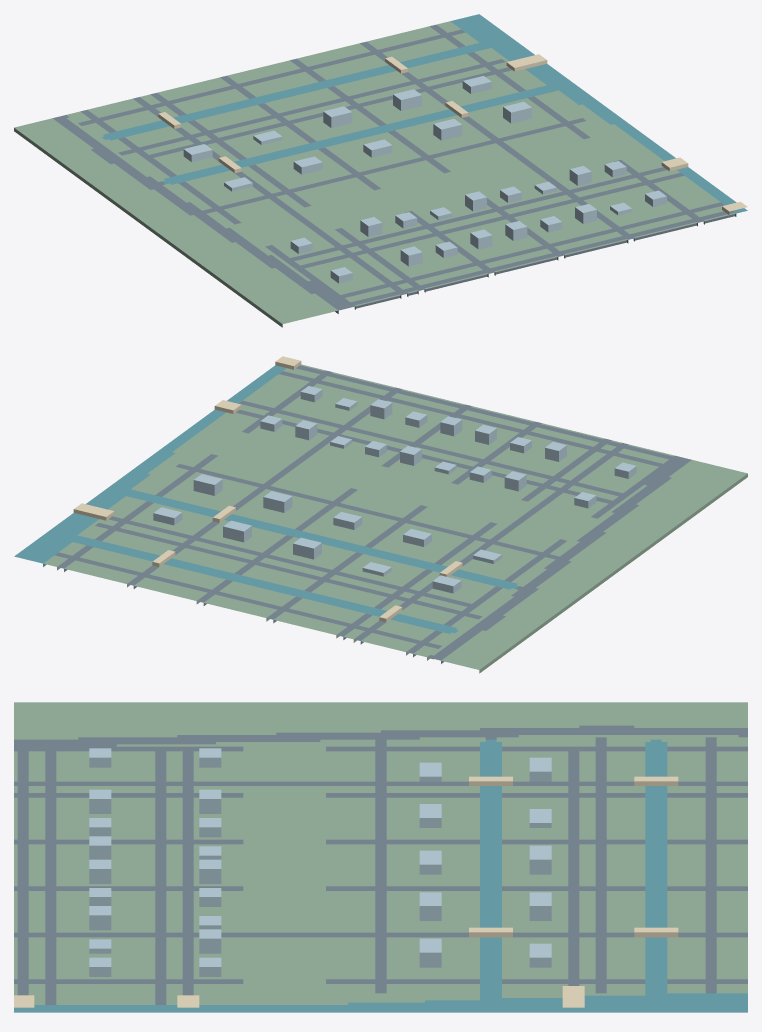
Rendered from sector-w.glb.
The picture shows the model from 3 angles, top to bottom: view 1: azimuth 30°, elevation 25°; view 2: azimuth 150°, elevation 25°; view 3: azimuth 270°, elevation 25°; orthographic projection. The views are drawn at different scales.
Parts seen in each view (by area): view 1: material_1, material_2, material_3, material_4, material_6; view 2: material_1, material_2, material_3, material_4, material_6; view 3: material_1, material_2, material_3, material_4, material_6.
Boxes of the visible parts, left/top/right/bottom form: material_1: left=14, top=21, right=735, bottom=327; material_2: left=52, top=24, right=734, bottom=313; material_3: left=102, top=14, right=747, bottom=216; material_4: left=183, top=76, right=666, bottom=283; material_6: left=158, top=54, right=747, bottom=214; material_1: left=43, top=364, right=747, bottom=673; material_2: left=55, top=365, right=691, bottom=663; material_3: left=14, top=365, right=519, bottom=633; material_4: left=153, top=386, right=636, bottom=593; material_6: left=73, top=356, right=462, bottom=622; material_1: left=14, top=702, right=747, bottom=1004; material_2: left=14, top=725, right=747, bottom=1004; material_3: left=14, top=739, right=747, bottom=1012; material_4: left=89, top=748, right=551, bottom=976; material_6: left=14, top=776, right=678, bottom=1007.
Size of the model in its own units: 1333 by 40 by 1333.
